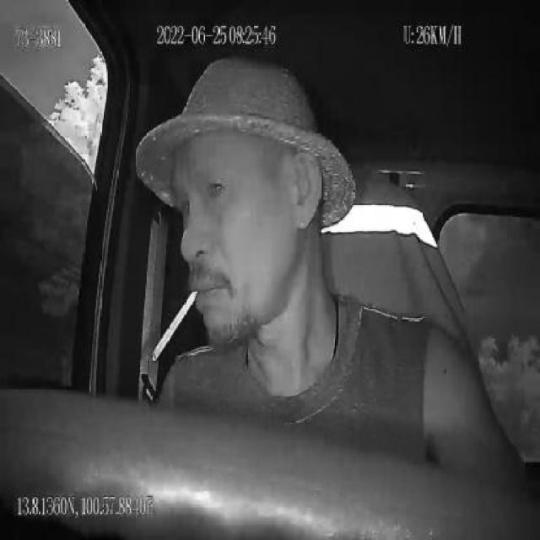smoking: (151, 291, 199, 362)
